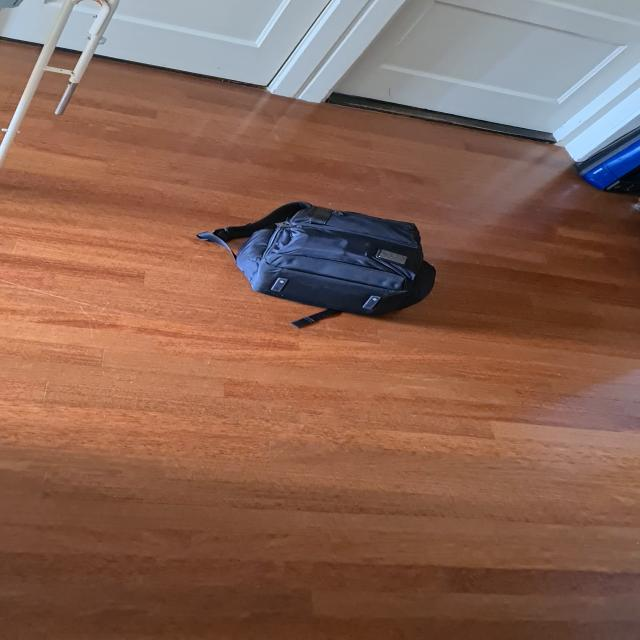backpack: (231, 198, 441, 320)
